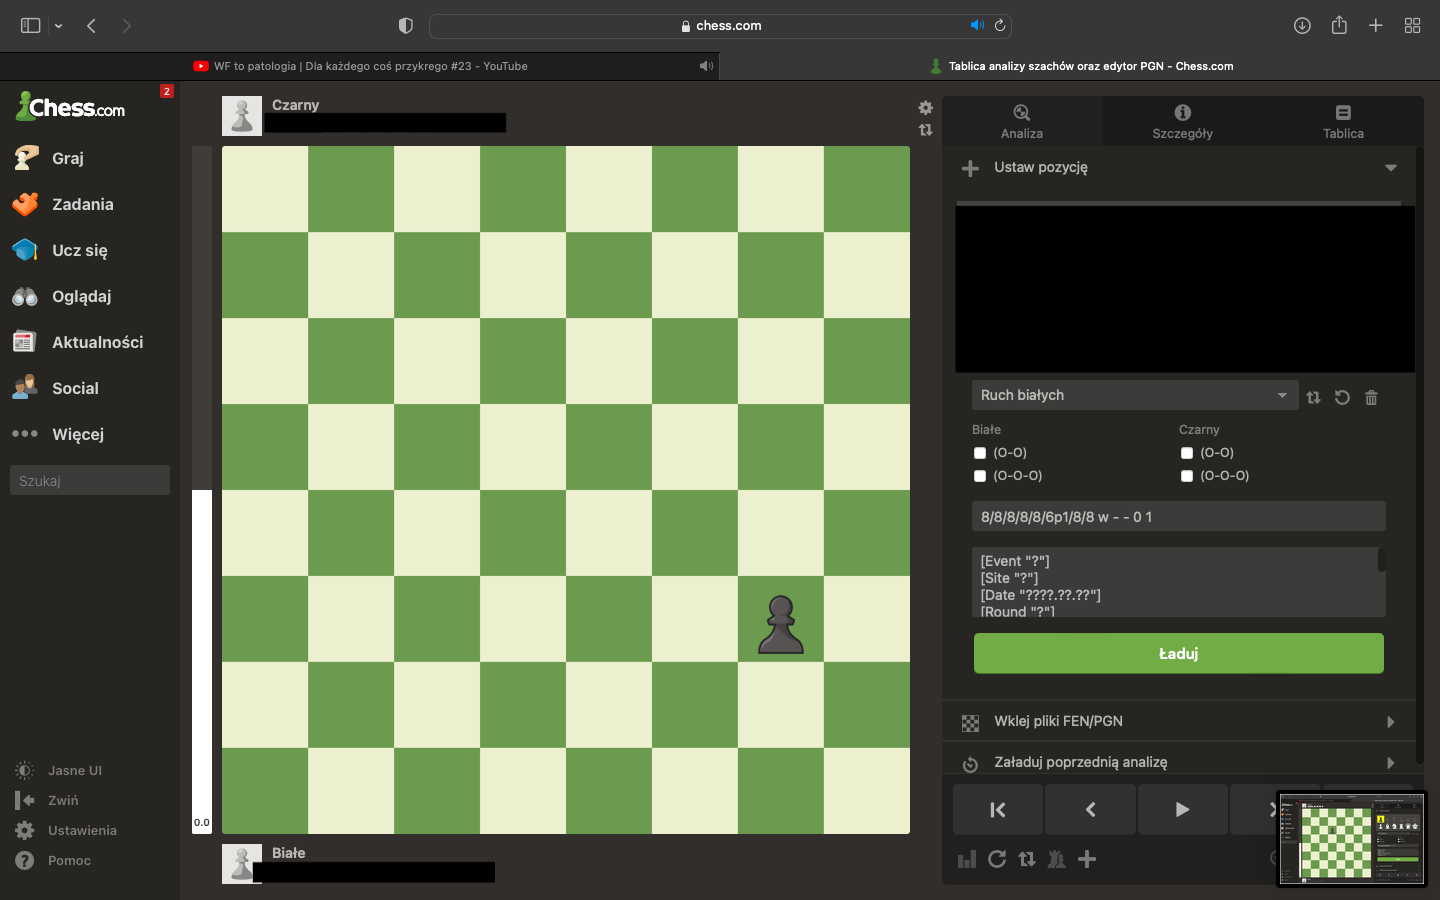black_pawn: (756, 594, 806, 655)
